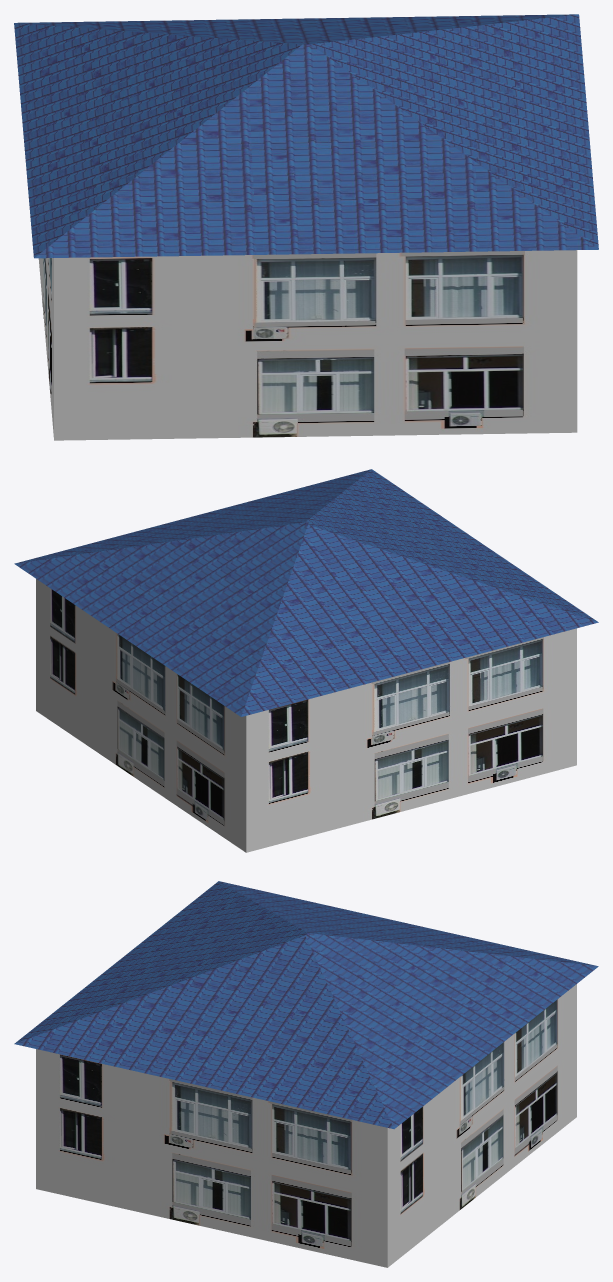
3 renders of one model, top to bottom at view 1: azimuth 30°, elevation 25°; view 2: azimuth 150°, elevation 25°; view 3: azimuth 270°, elevation 25°, orthographic. The views are drawn at different scales.
Parts seen in each view (by area): view 1: CityEngineMaterial_10_m, CityEngineMaterial_9_m; view 2: CityEngineMaterial_10_m, CityEngineMaterial_9_m; view 3: CityEngineMaterial_10_m, CityEngineMaterial_9_m.
Boxes of the visible parts, x1=… form: CityEngineMaterial_10_m: x1=14, y1=14, x2=598, y2=258; CityEngineMaterial_9_m: x1=38, y1=250, x2=577, y2=440; CityEngineMaterial_10_m: x1=14, y1=469, x2=598, y2=716; CityEngineMaterial_9_m: x1=36, y1=579, x2=576, y2=852; CityEngineMaterial_10_m: x1=14, y1=881, x2=598, y2=1129; CityEngineMaterial_9_m: x1=36, y1=984, x2=576, y2=1267.
Bounding box in the file's own units: 34.11 × 14.02 × 33.96.
